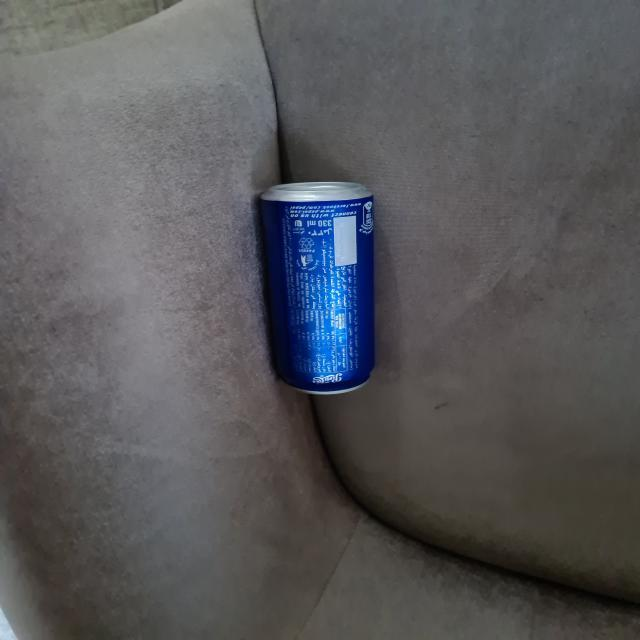can: (252, 180, 380, 396)
